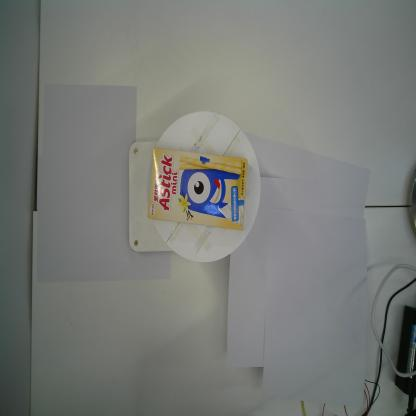Dessert: (146, 147, 248, 232)
